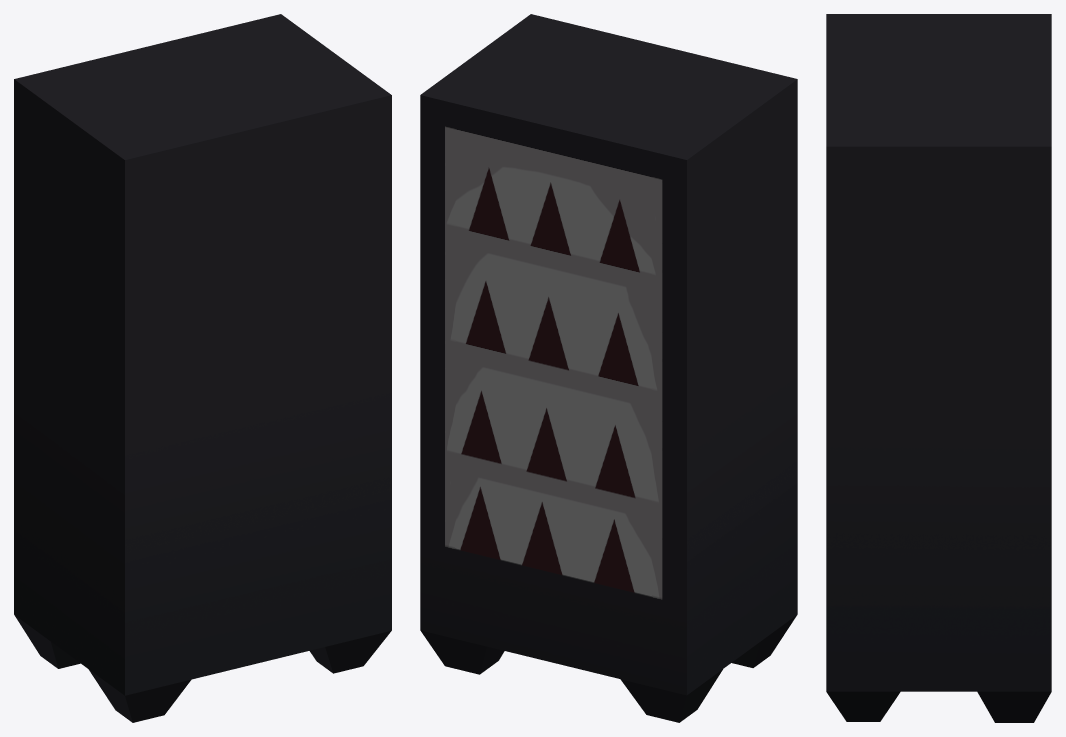
File: SM_Vending.fbx
3 views of the same model, side by side, from view 1: azimuth 30°, elevation 25°; view 2: azimuth 150°, elevation 25°; view 3: azimuth 270°, elevation 25° (orthographic).
Parts seen in each view (by area): view 1: pCube1; view 2: pCube1; view 3: pCube1.
Part boxes in pixels (x1,y1,x2,y2): pCube1: [14, 14, 391, 722]; pCube1: [420, 14, 797, 722]; pCube1: [826, 14, 1051, 722].
Bounding box in the file's own units: 4.37 × 8.97 × 3.14.
